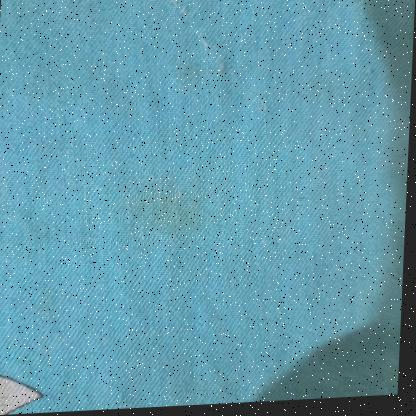spot: (128, 185, 216, 248)
